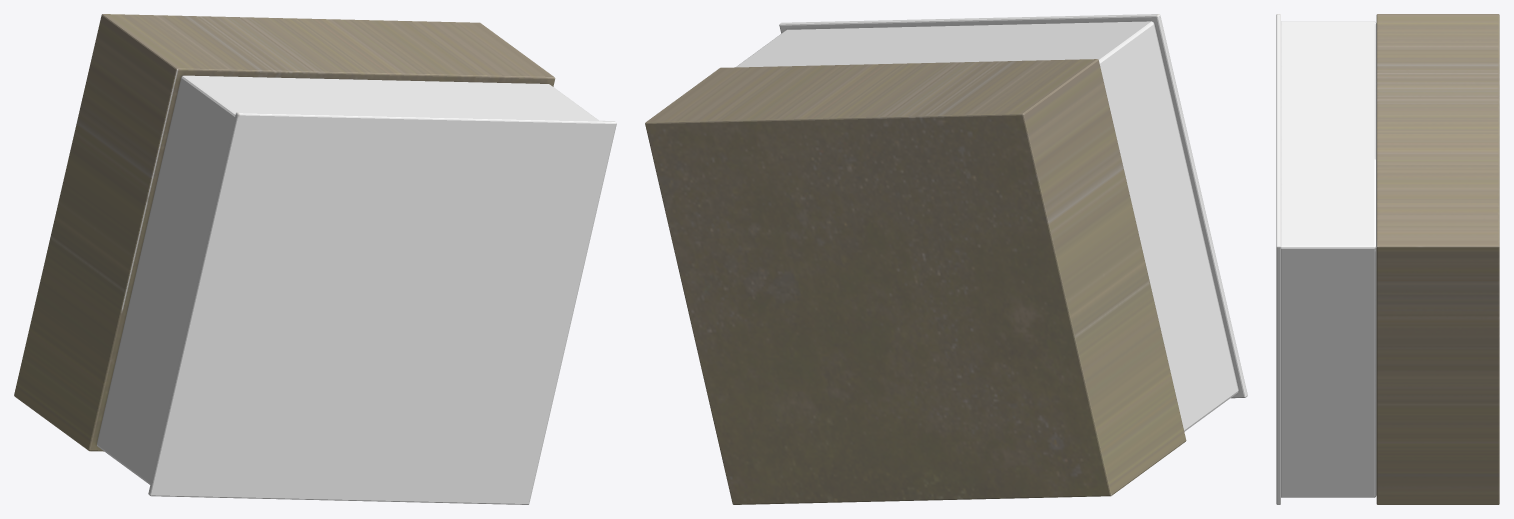
The model's file is service_object.obj.
3 renders of one model, left to right at view 1: azimuth 30°, elevation 25°; view 2: azimuth 150°, elevation 25°; view 3: azimuth 270°, elevation 25°, orthographic. The views are drawn at different scales.
Parts seen in each view (by area): view 1: service_object; view 2: service_object; view 3: service_object.
Boxes of the visible parts, x1=… form: service_object: x1=14, y1=14, x2=616, y2=504; service_object: x1=645, y1=14, x2=1247, y2=504; service_object: x1=1276, y1=14, x2=1499, y2=504.
Bounding box in the file's own units: 3.59 × 3.39 × 1.83.
Materials: 1 (1 with a texture image).
